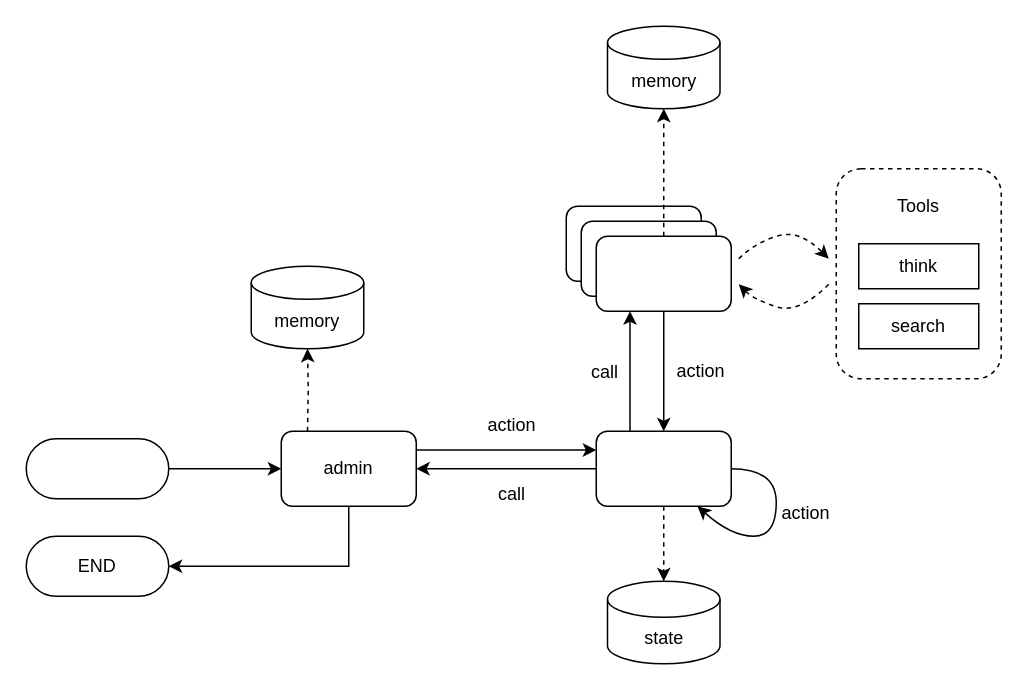
Some shapes in this 1028 by 690 pixel diagram are drawn without their labels. Each missing label, with the centre of its shape:
judge: (663,468)
participants: (663,273)
START: (97,468)
